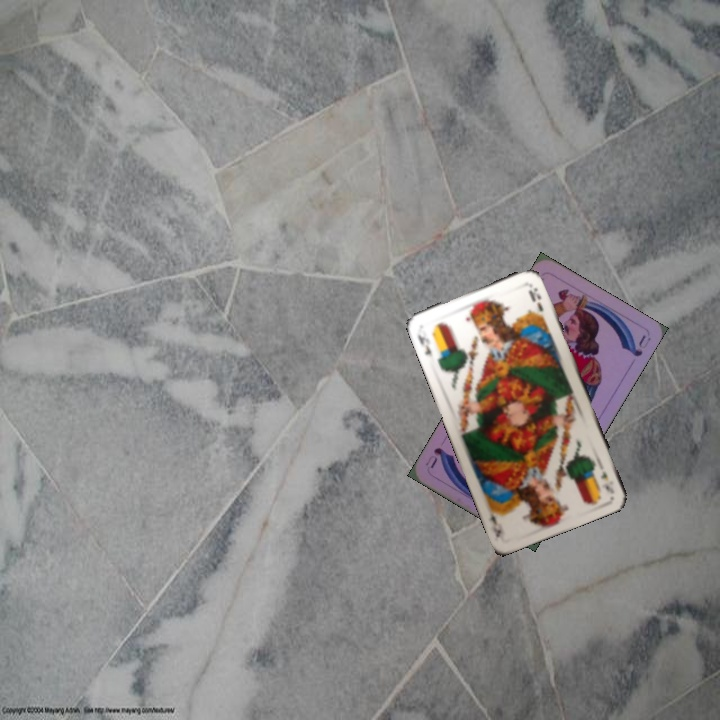EK: (413, 330, 434, 358), (597, 467, 617, 496)
